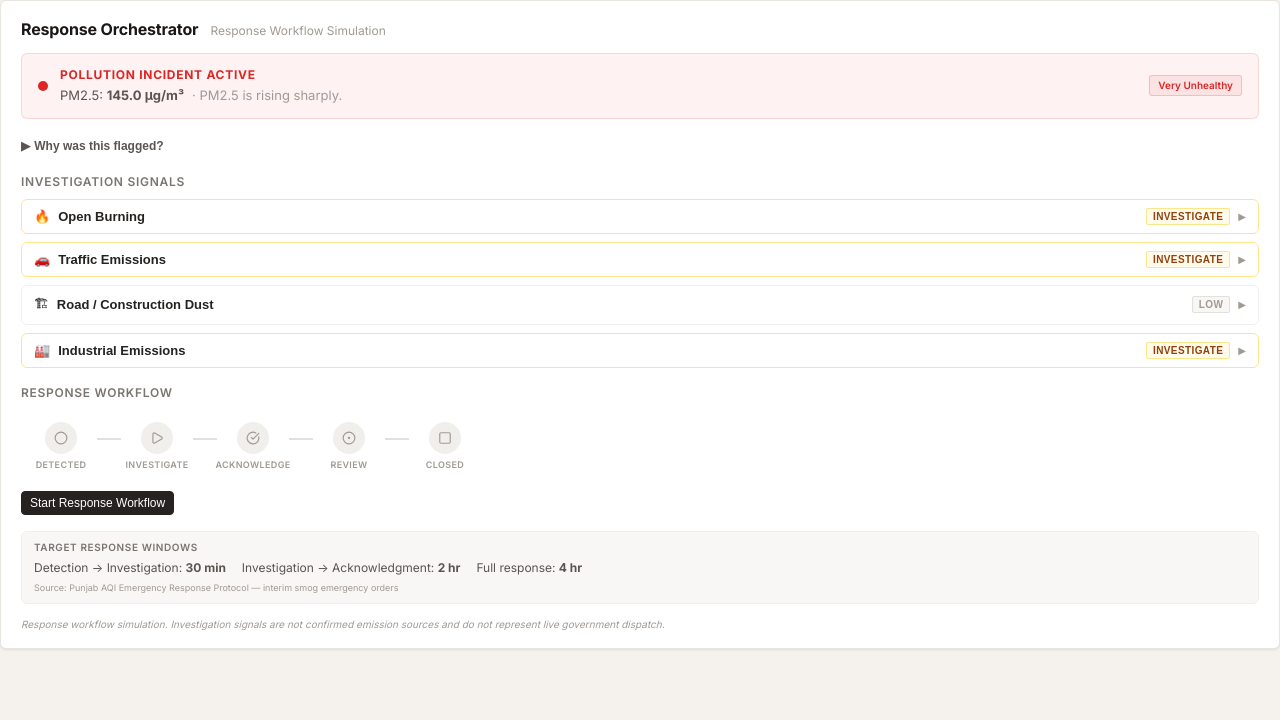
ResponseOrchestrator › workflow interaction › advances through multiple steps
Start workflow
Click the button "Start Response Workflow" at coordinates (98, 503), box [21,491,174,515]
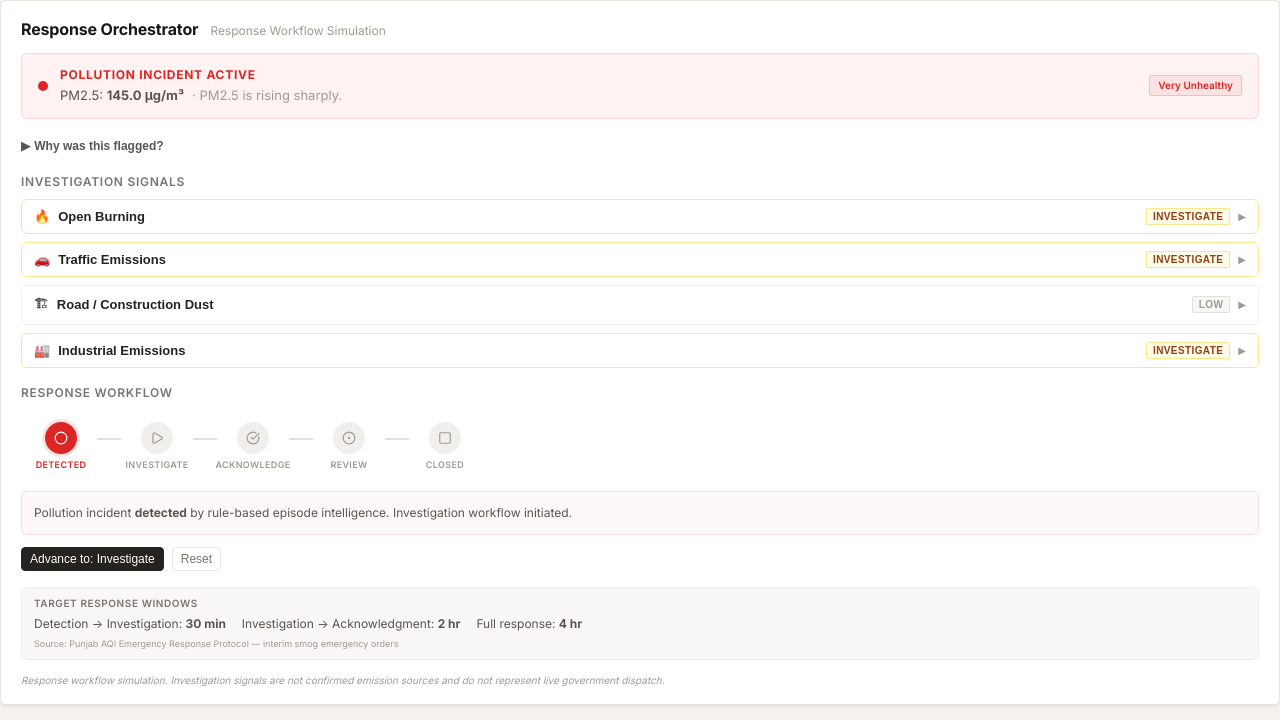
Step 0 → 1
Click the button "Advance to: Investigate" at coordinates (92, 559), box [21,547,164,571]
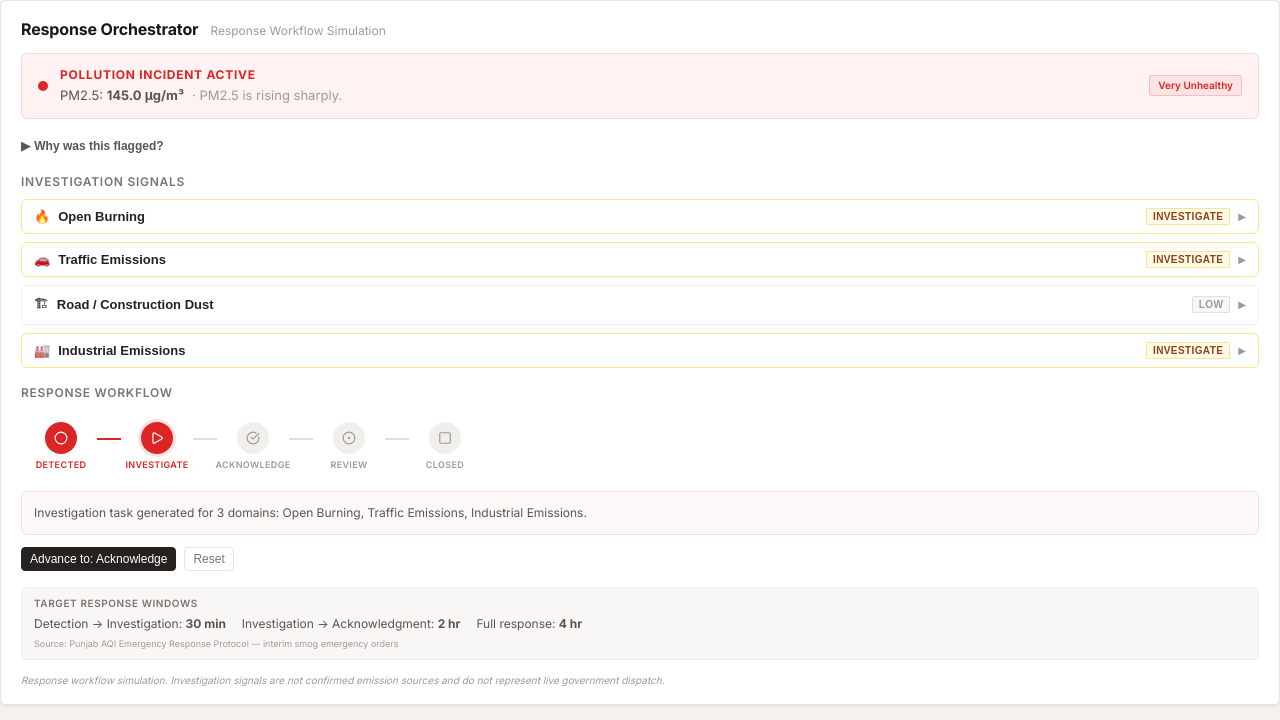
Now the button "Advance to: Acknowledge" is shown
Step 1 → 2
Click the button "Advance to: Acknowledge" at coordinates (99, 559), box [21,547,176,571]
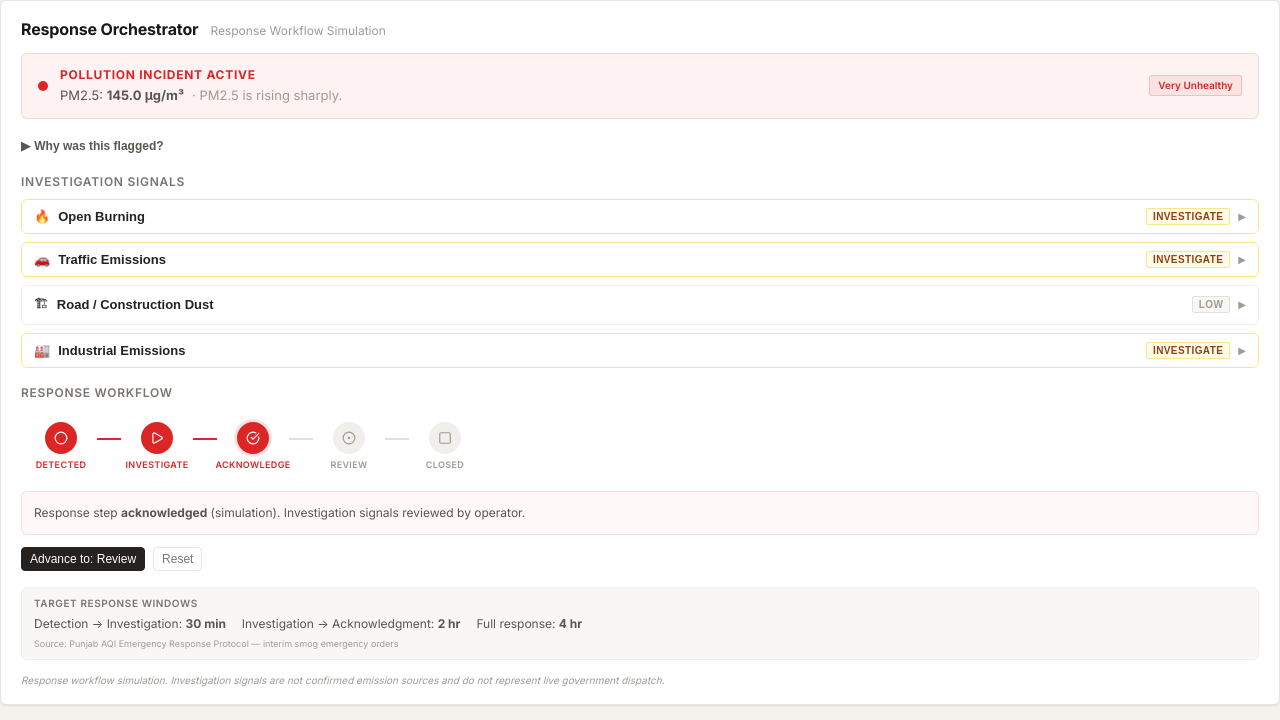
Now the button "Advance to: Review" is shown
Step 2 → 3
Click the button "Advance to: Review" at coordinates (83, 559), box [21,547,145,571]
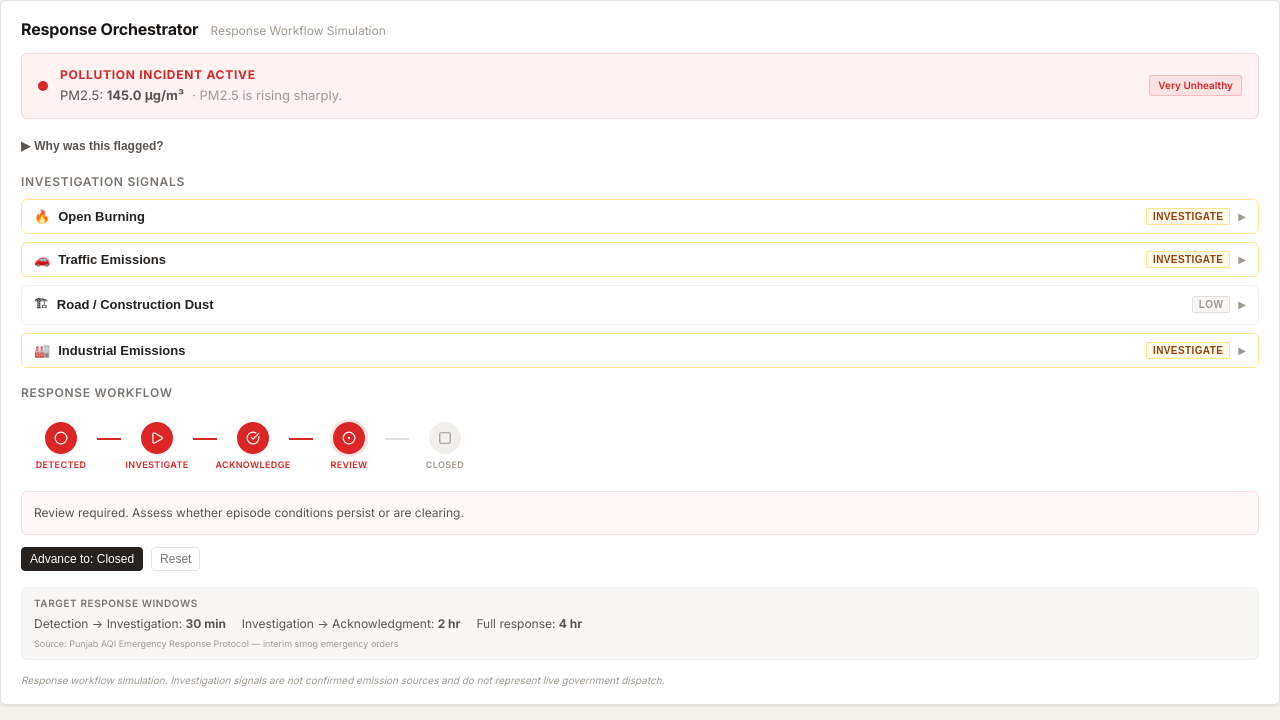
Now the button "Advance to: Closed" is shown
Step 3 → 4
Click the button "Advance to: Closed" at coordinates (82, 559), box [21,547,143,571]
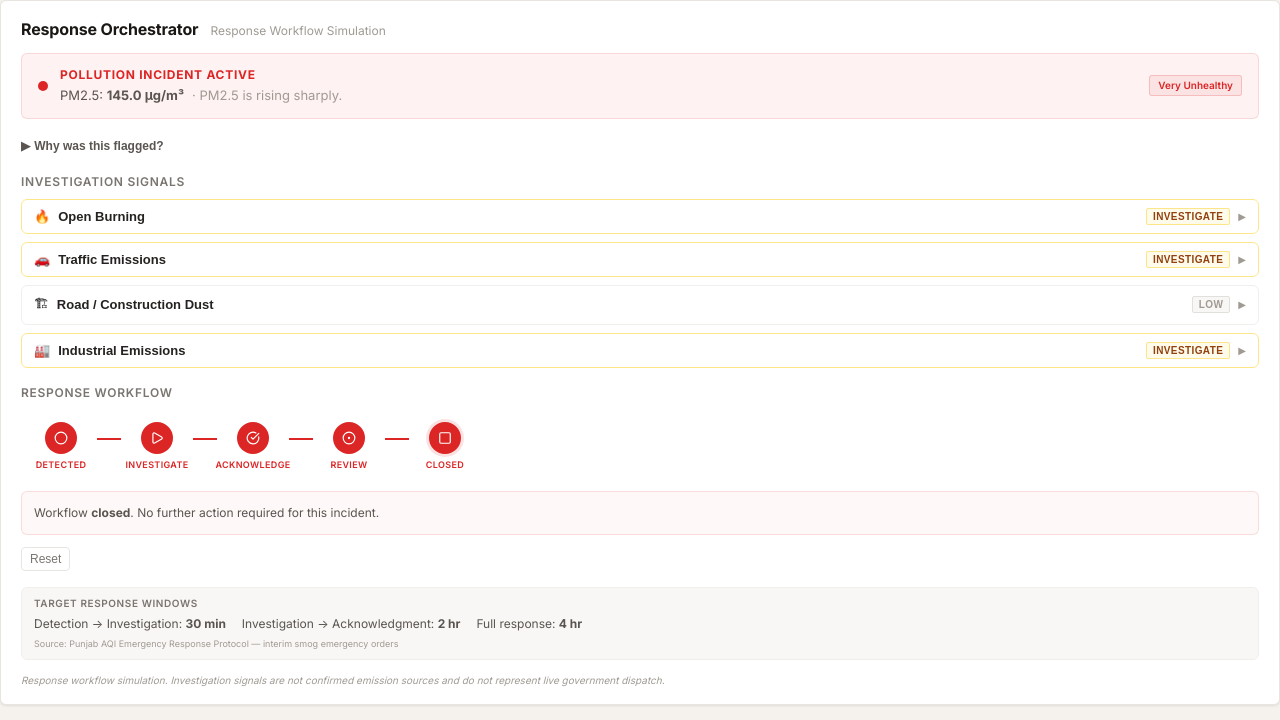
Now the text "No further action required" is shown, box [130,505,379,520]
